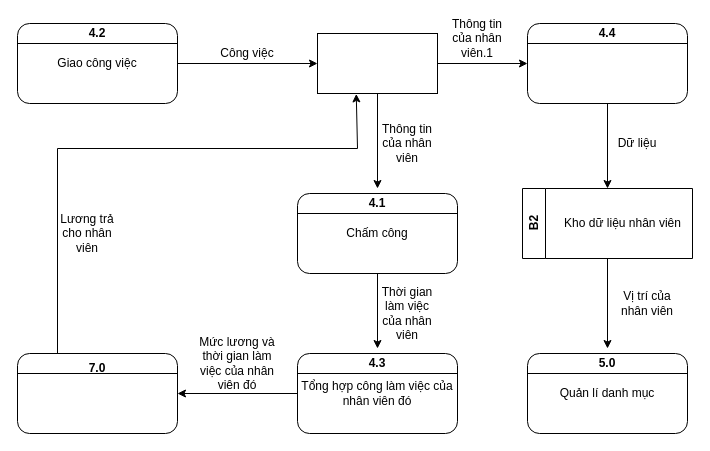
The diagram is 710 pixels wide and 451 high, and some of its shapes have lost their labels. The shapes that lost their labels are listed below. From the top down, each one's centre as x and y in pixels, then its label:
point (377, 63): Nhân viên
point (607, 63): Cập nhật thông tin nhân viên vào kho dữ liệu
point (97, 393): Quản lí tài chính
